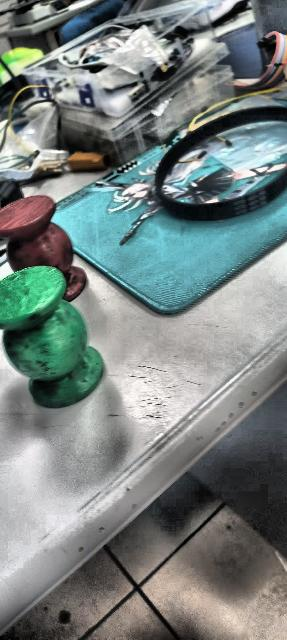green: (0, 262, 106, 407)
red: (0, 197, 86, 299)
